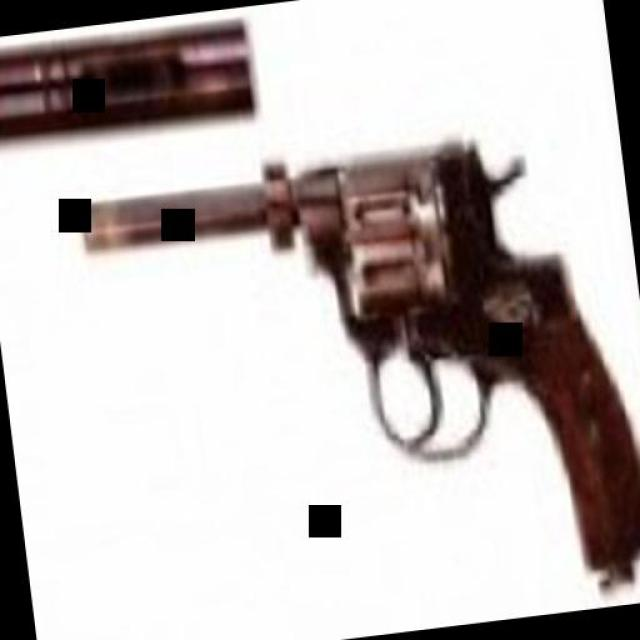gun: (74, 108, 640, 626)
